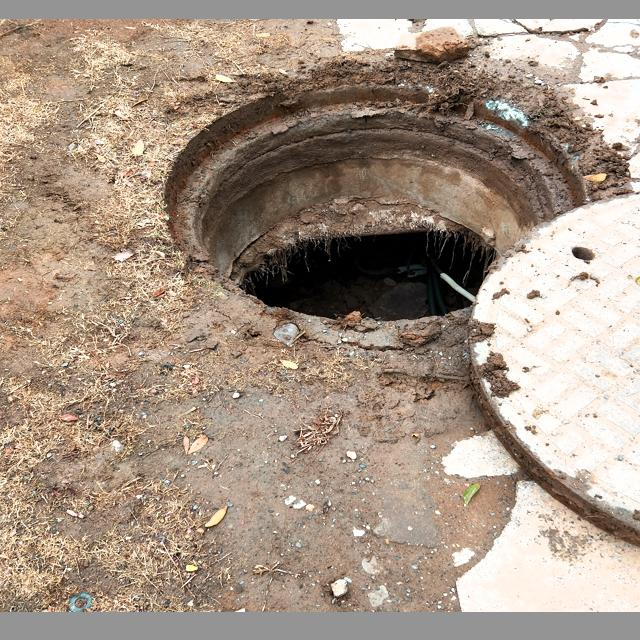uncovered: (172, 69, 640, 587)
